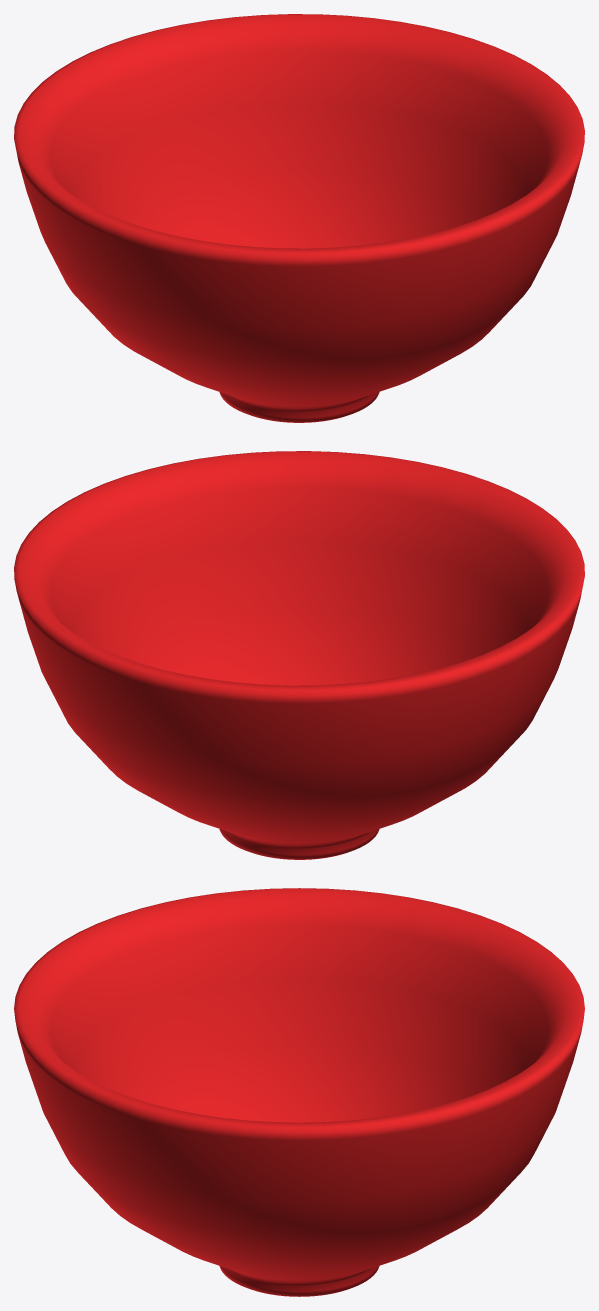
Rendered from plastic_bowl.glb.
The picture shows the model from 3 angles, top to bottom: view 1: azimuth 30°, elevation 25°; view 2: azimuth 150°, elevation 25°; view 3: azimuth 270°, elevation 25°; orthographic projection.
Parts seen in each view (by area): view 1: Cylinder; view 2: Cylinder; view 3: Cylinder.
Part boxes in pixels (bbox=[...]): Cylinder: bbox=[14, 14, 584, 422]; Cylinder: bbox=[14, 451, 584, 859]; Cylinder: bbox=[14, 888, 584, 1296].
Bounding box in the file's own units: 4.99 × 2.49 × 4.99.
